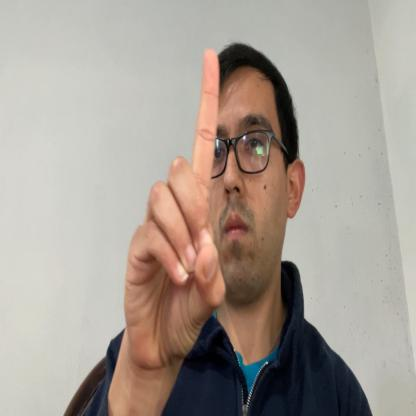D: (123, 48, 225, 373)
